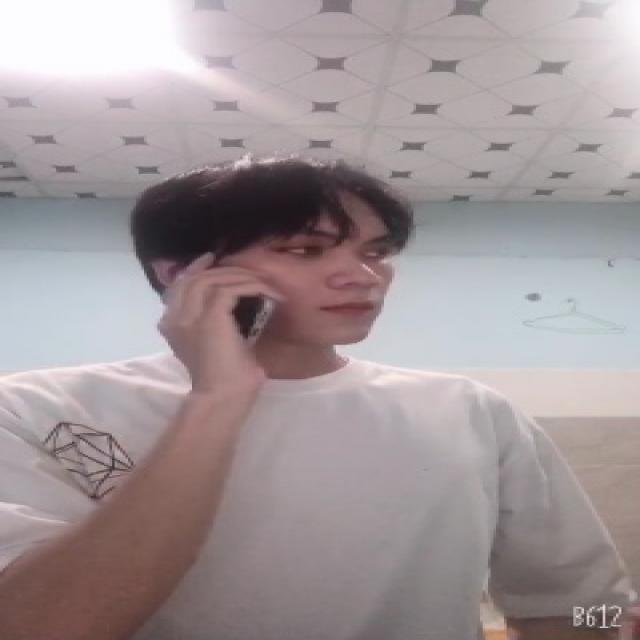Phone: (222, 272, 284, 355)
